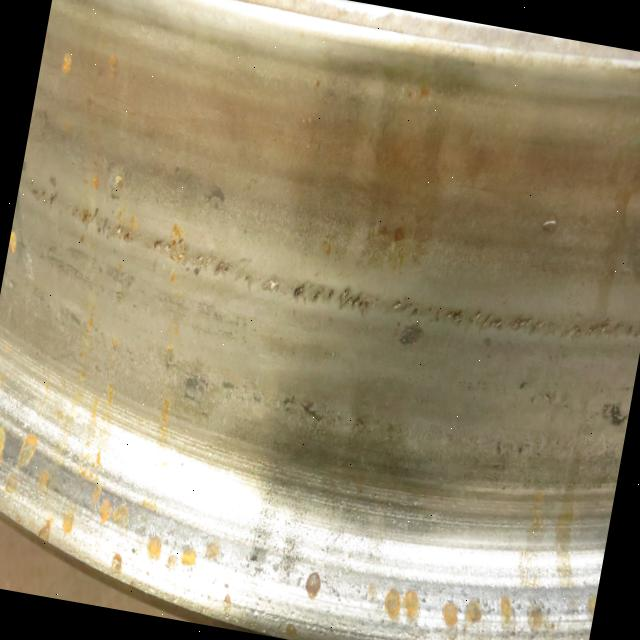Peeling: (287, 278, 381, 320), (151, 233, 188, 267), (80, 208, 111, 236), (587, 317, 623, 341), (513, 315, 550, 335), (113, 222, 136, 245), (474, 312, 504, 328), (188, 252, 214, 270), (446, 309, 465, 325), (216, 262, 232, 278), (393, 300, 402, 310)
